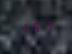five: (30, 20, 40, 33)
one: (18, 21, 28, 34)
seven: (41, 19, 51, 32)
